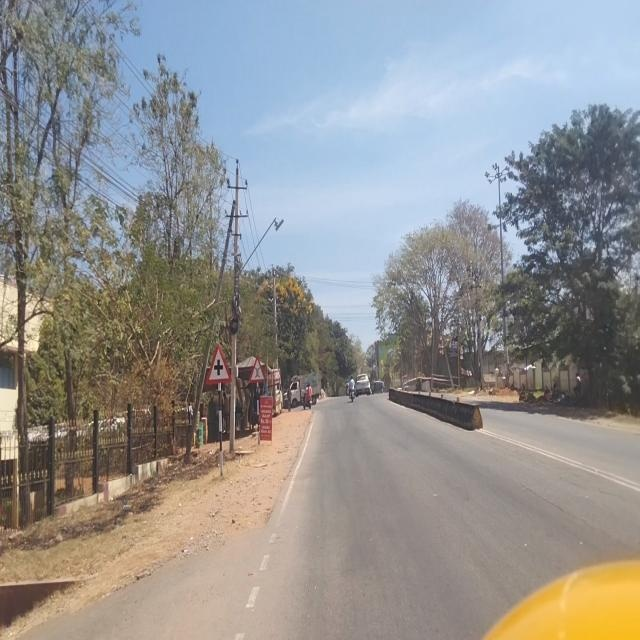bien_nguy_hiem: (207, 344, 231, 385), (249, 356, 265, 384)
